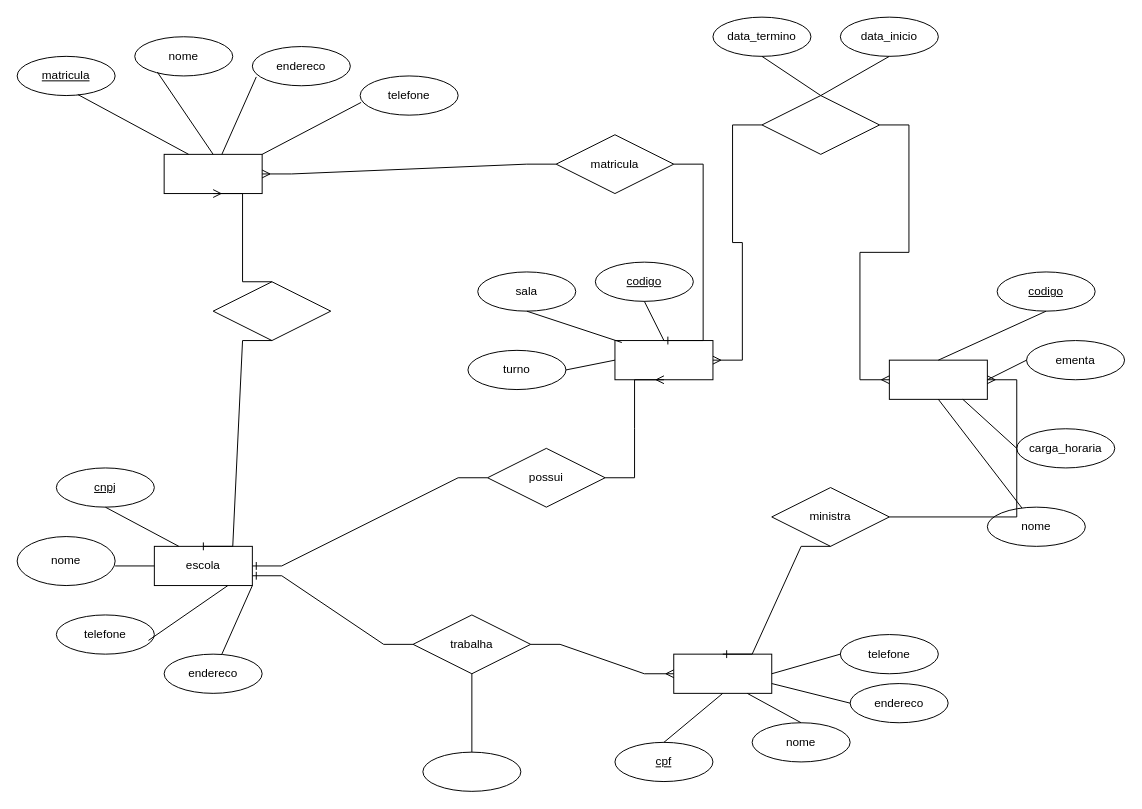
Image size: 1142x809. Some labels were removed from this diagram. The centre of each missing label's shape, as x and y in pixels:
aluno: (212,173)
data_admissao: (471,771)
disciplina: (937,379)
estuda: (271,311)
professor: (722,673)
tem: (820,124)
turma: (663,360)
